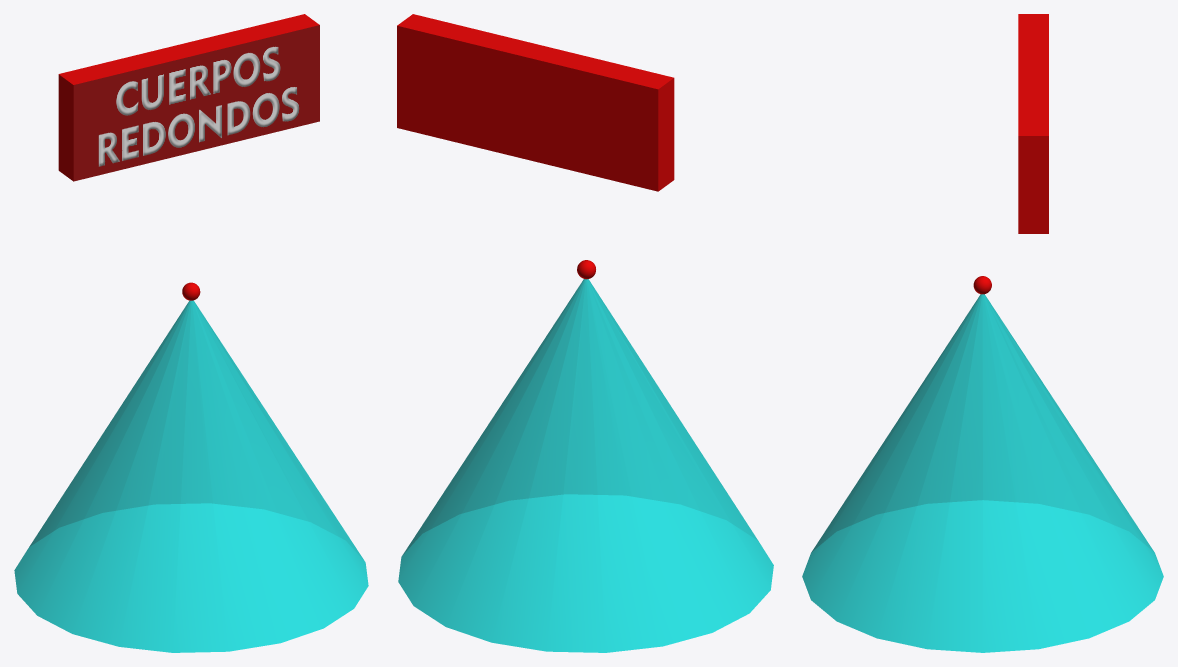
Rendered from CONO.fbx.
3 views of the same model, side by side, from view 1: azimuth 30°, elevation 25°; view 2: azimuth 150°, elevation 25°; view 3: azimuth 270°, elevation 25° (orthographic). The views are drawn at different scales.
Visible parts, largest first — view 1: pCylinder1, polySurface95; view 2: pCylinder1, polySurface95; view 3: pCylinder1, polySurface95.
Part boxes in pixels (x1,y1,x2,y2): pCylinder1: (14, 300, 368, 652); polySurface95: (58, 14, 319, 181); pCylinder1: (398, 279, 773, 652); polySurface95: (397, 14, 674, 191); pCylinder1: (802, 294, 1163, 652); polySurface95: (1018, 14, 1048, 233).
Bounding box in the file's own units: 8.7 × 13.6 × 8.7.
3 materials, 1 textured.
